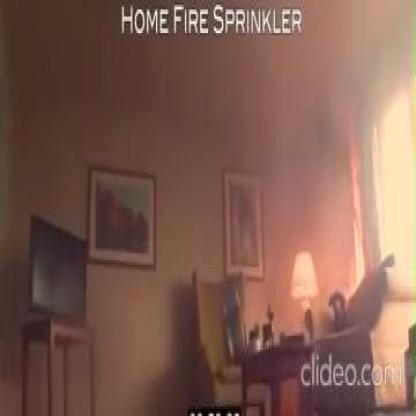fire: (335, 113, 366, 302)
